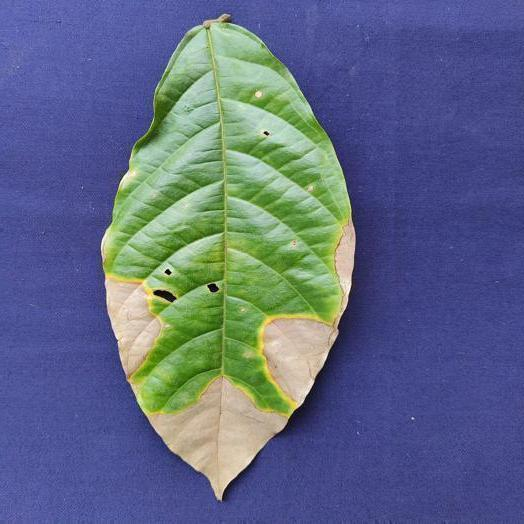Potassium: (102, 16, 354, 497)
